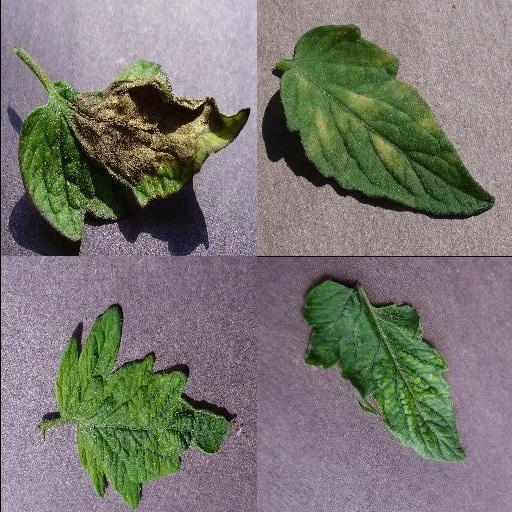Late Blight: (16, 61, 250, 241)
Leaf Mold: (278, 24, 494, 217)
Mosaic Virus: (54, 303, 234, 511), (300, 278, 466, 464)
